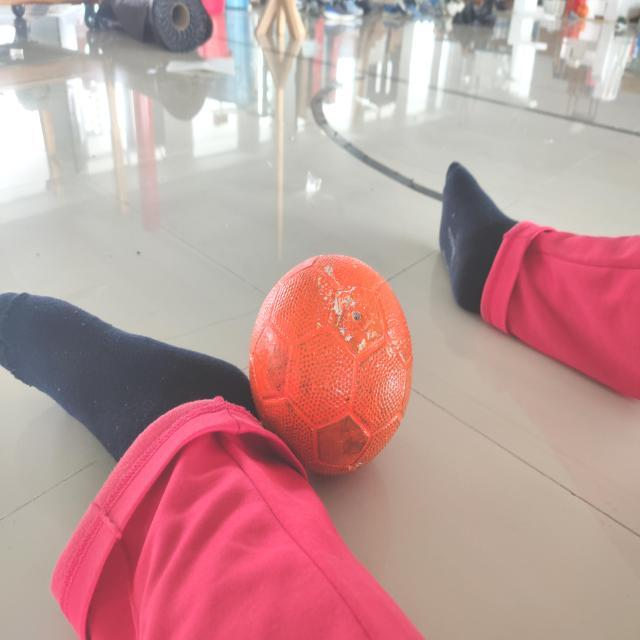bola: (238, 246, 426, 489)
